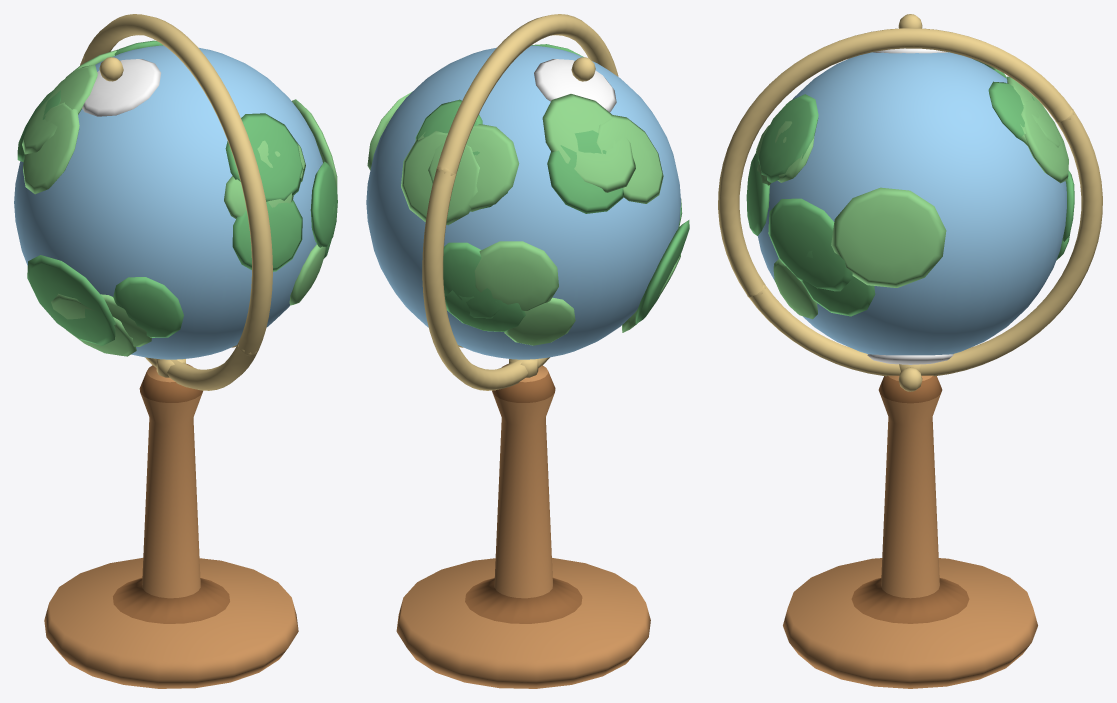
File: globe.glb
The picture shows the model from 3 angles, left to right: view 1: azimuth 30°, elevation 25°; view 2: azimuth 150°, elevation 25°; view 3: azimuth 270°, elevation 25°; orthographic projection.
Visible parts, largest first — view 1: globe; view 2: globe; view 3: globe.
Part boxes in pixels (left/top/right/bottom): globe: left=14, top=14, right=337, bottom=688; globe: left=366, top=14, right=689, bottom=688; globe: left=718, top=14, right=1102, bottom=688.
Size of the model in its own units: 0.6729 by 1.37 by 0.7835.
1 material, 1 textured.
